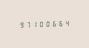four: (66, 19, 72, 27)
nine: (17, 20, 23, 28)
one: (31, 20, 37, 28)
seven: (24, 20, 30, 28)
six: (52, 19, 58, 27), (59, 19, 65, 27)
zero: (38, 20, 44, 28), (45, 19, 51, 27)
